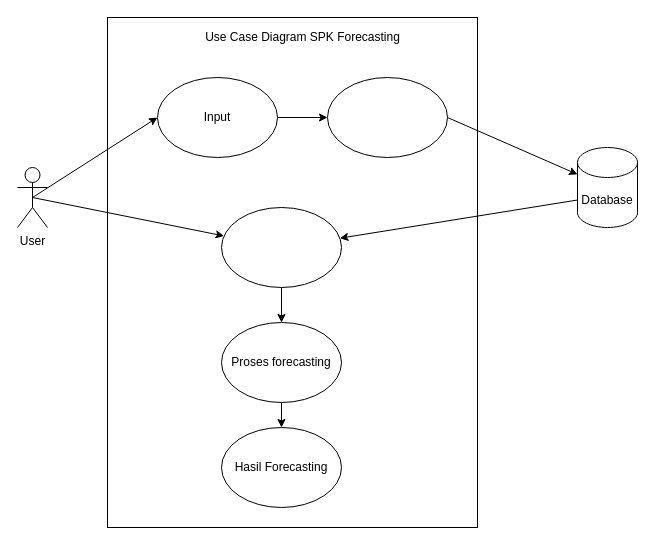
This 655x545 diagram has some shape labels left out. The shapes that lost their labels are listed below. From the top down, each one's box as (x1, y1, x2, y2) in pixels, then its label:
(326, 76, 448, 158): Input tanggal dan nilai
(220, 206, 342, 288): Memilih tanggal awal dan tanggal akhir
